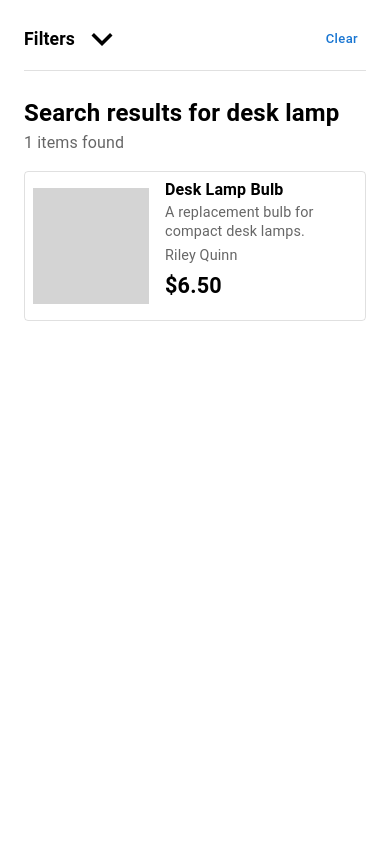
Test: uses the unpriced matching result set for the max price filter ceiling
Click the button named "Toggle filters".
click(102, 39)  # box [79,16,125,62]
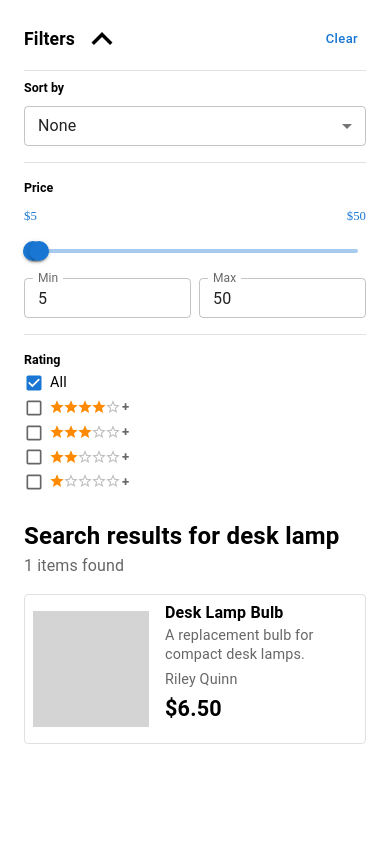
Expected: the number field labelled "Max" holds "50", [199,278,366,318]
